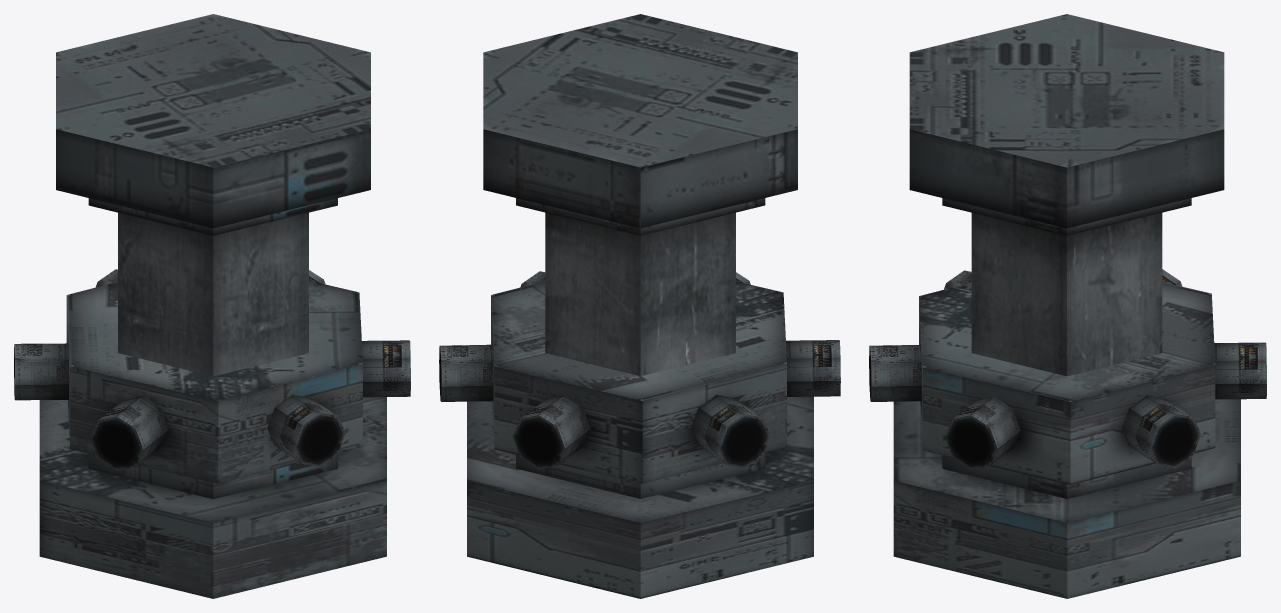
Rendered from CanhaoAnimatedFBX.fbx.
3 renders of one model, left to right at view 1: azimuth 30°, elevation 25°; view 2: azimuth 150°, elevation 25°; view 3: azimuth 270°, elevation 25°, orthographic.
Parts seen in each view (by area): view 1: pCylinder2, polySurface1, pCylinder12; view 2: pCylinder2, polySurface1, pCylinder12; view 3: pCylinder2, polySurface1, pCylinder12.
Part boxes in pixels (left/top/right/bottom): pCylinder2: left=56, top=14, right=370, bottom=499; polySurface1: left=14, top=269, right=410, bottom=483; pCylinder12: left=39, top=397, right=386, bottom=598; pCylinder2: left=483, top=14, right=797, bottom=498; polySurface1: left=439, top=271, right=840, bottom=483; pCylinder12: left=467, top=396, right=813, bottom=598; pCylinder2: left=909, top=14, right=1224, bottom=498; polySurface1: left=869, top=269, right=1266, bottom=484; pCylinder12: left=893, top=399, right=1240, bottom=598.
Bounding box in the file's own units: 6.88 × 8.02 × 6.83.
Materials: 4 (4 with a texture image).
